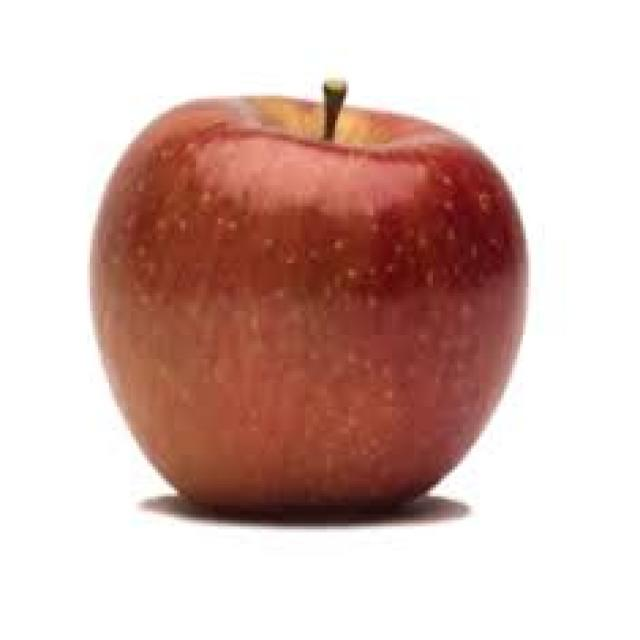Apple: (88, 88, 530, 512)
